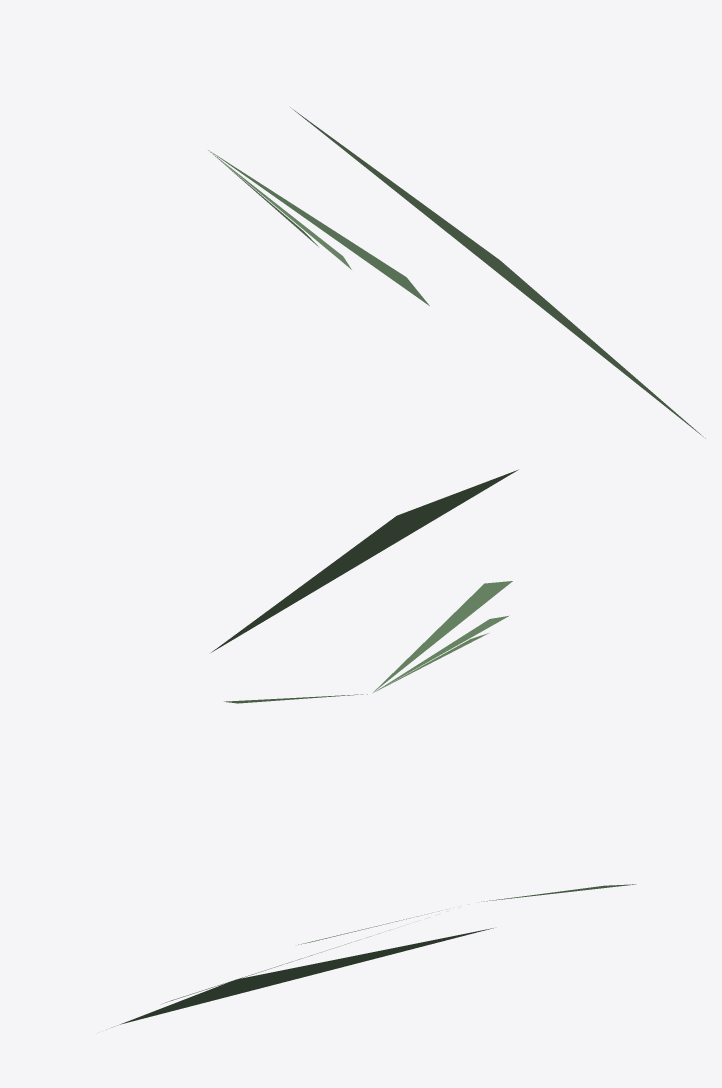
The model's file is c_1672_17818_forest.glb.
3 renders of one model, top to bottom at view 1: azimuth 30°, elevation 25°; view 2: azimuth 150°, elevation 25°; view 3: azimuth 270°, elevation 25°, orthographic. The views are drawn at different scales.
Parts seen in each view (by area): view 1: geometry_0; view 2: geometry_0; view 3: geometry_0.
Part boxes in pixels (left/top/right/bottom): geometry_0: left=208, top=107, right=705, bottom=438; geometry_0: left=211, top=469, right=518, bottom=703; geometry_0: left=106, top=884, right=636, bottom=1029.
Bounding box in the file's own units: 245 × 118 × 609.
